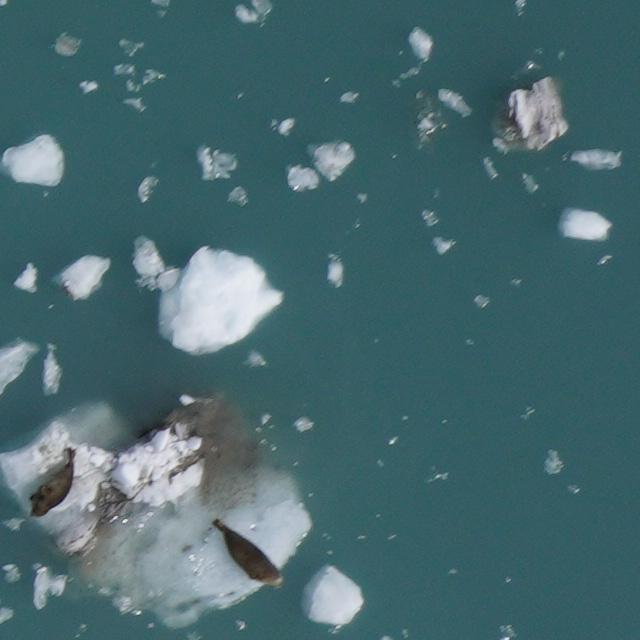seal: (201, 512, 290, 596), (21, 442, 91, 527)
